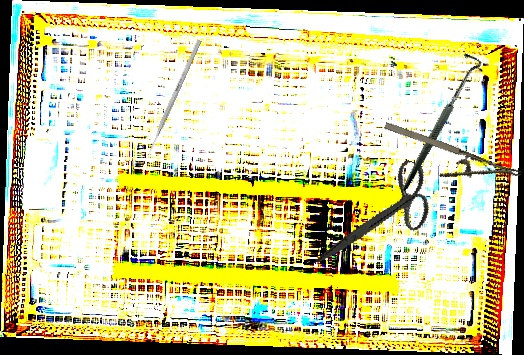Hook Surgical: (358, 48, 518, 192)
Iris Scissors: (313, 141, 445, 294)
Needle Holder: (375, 117, 522, 205)
Pusher: (144, 39, 202, 160)
